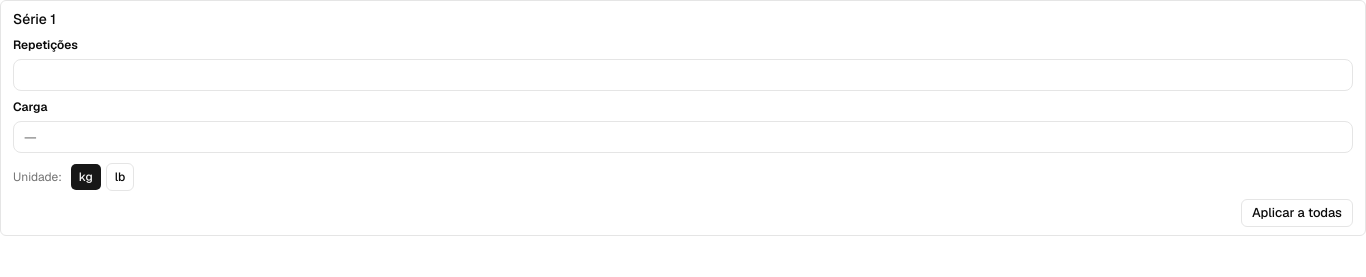
Scenario: SeriesCard › validações de carga (D7) › carga negativa mostra 'A carga não pode ser negativa.' e não commita
The width and height of the screenshot is (1366, 277).
Type "-5" into the field labelled "Carga" at (683, 137), box x1=13 y1=121 x2=1353 y2=153
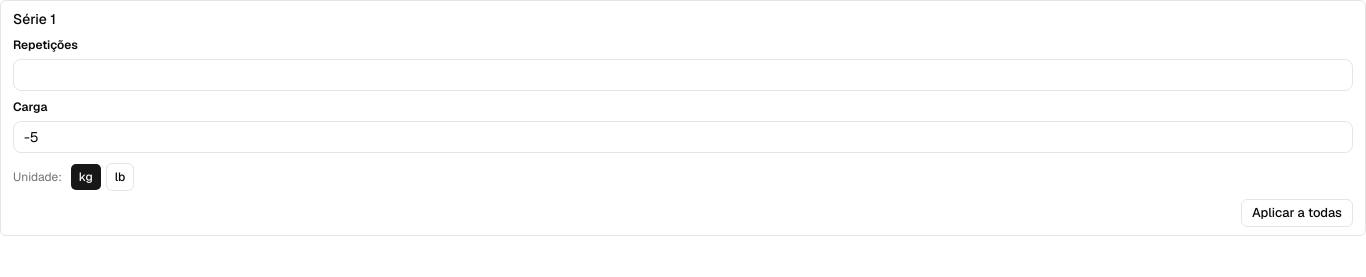
Leave the field labelled "Carga", box x1=13 y1=121 x2=1353 y2=153
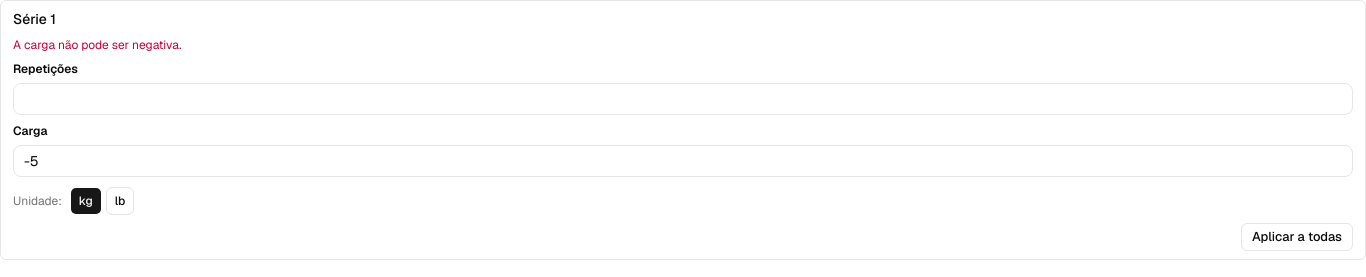
Check: the text "A carga não pode ser negativa." is shown, box x1=13 y1=37 x2=181 y2=53
